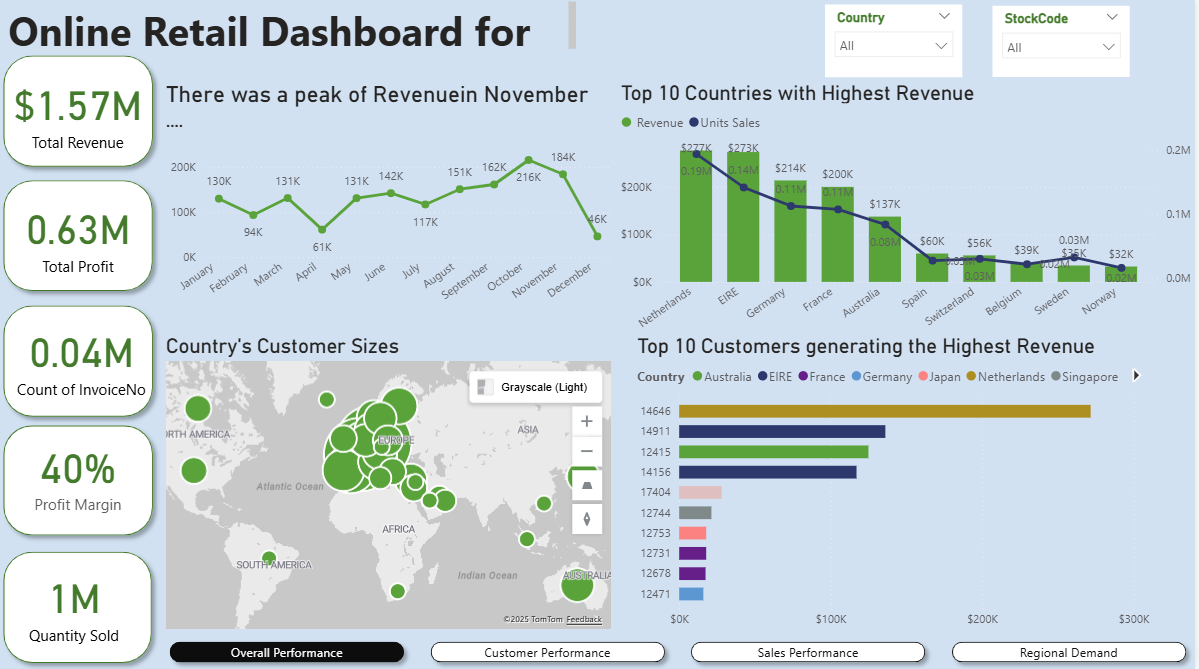

The page's visual inventory and layout, read from the dashboard file:
{"tool":"powerbi","page":{"name":"Overall Performance","canvas":[1280,720],"ordinal":0},"visuals":[{"type":"pageNavigator","box":[177.5,678.9,1102.8,40.8],"z":0},{"type":"lineStackedColumnComboChart","title":"Top 10 Countries with Highest Revenue (not Including UK)","fields":{"Category":["dim_invoice.Country"],"Y2":["Sum(fact_sales.Quantity)"],"Y":["Sum(fact_sales.Revenue)"]},"box":[652.1,385.9,618.3,281.7],"z":1000},{"type":"barChart","title":"Top 10 Customers generating the Highest Revenue","fields":{"Y":["Divide(Sum(fact_sales.Revenue), ScopedEval(Sum(fact_sales.Revenue), []))"],"Category":["dim_invoice.CustomerID"],"Series":["dim_invoice.Country"]},"box":[205.8,358.1,429.5,321.1],"z":2000},{"type":"slicer","fields":{"Values":["dim_products.StockCode"]},"box":[1129.3,171.5,135.8,76.8],"z":3000},{"type":"donutChart","title":"Revenue by  Country","fields":{"Y":["Sum(fact_sales.Revenue)"],"Category":["dim_invoice.Country"]},"box":[635.2,73.2,450.7,142.3],"z":4000},{"type":"lineChart","title":"Monthly Revenue Trend","fields":{"Category":["dim_date.Date.Variation.Date Hierarchy.Month"],"Y":["fact_sales.Total Revenue (UK)","fact_sales.Total Revenue(other countries)","fact_sales.Total Revenue(all)"]},"box":[205.6,73.2,402.8,285.9],"z":5000},{"type":"donutChart","fields":{"Y":["fact_sales.Customer Count"],"Category":["dim_invoice.Country"]},"box":[635.2,226.8,449.3,143.7],"z":6000},{"type":"slicer","fields":{"Values":["dim_date.Date.Variation.Date Hierarchy.Year","dim_date.Date.Variation.Date Hierarchy.Quarter","dim_date.Date.Variation.Date Hierarchy.Month","dim_date.Date.Variation.Date Hierarchy.Day"]},"box":[1129.3,281.3,135.8,76.8],"z":7000},{"type":"slicer","fields":{"Values":["dim_invoice.Country"]},"box":[1129.3,74.1,138.6,70],"z":8000},{"type":"shape","box":[0,53.5,177.5,136.6],"z":9000},{"type":"shape","box":[0,186.8,177.2,136],"z":10000},{"type":"shape","box":[0,319.7,177.5,136.6],"z":11000},{"type":"shape","box":[0,447.9,177.5,135.2],"z":12000},{"type":"card","fields":{"Values":["fact_sales.Total Profit"]},"box":[0,201.4,177.5,107],"z":13000},{"type":"card","fields":{"Values":["Sum(fact_sales.Revenue)"]},"box":[5.6,73.2,166.2,98.6],"z":14000},{"type":"shape","box":[0,583.1,176.1,136.6],"z":15000},{"type":"card","fields":{"Values":["fact_sales.Profit Margin"]},"box":[0,450.7,177.5,116.9],"z":16000},{"type":"card","fields":{"Values":["Sum(fact_sales.Quantity)"]},"box":[0,588.7,169,118.3],"z":17000},{"type":"card","fields":{"Values":["CountNonNull(fact_sales.InvoiceNo)"]},"box":[9.9,333.8,166.2,104.2],"z":18000},{"type":"textbox","box":[9.9,0,615.5,63.4],"z":19000}]}

Visuals, with their boxes in screenshot pixels (x1, y1, x2, y2), scaled from the page's 1280x720 canvas onto the 1199x669 screenshot:
pageNavigator: 166 631 1198 668
"Top 10 Countries with Highest Revenue (not Including UK)" lineStackedColumnComboChart: 611 359 1190 620
"Top 10 Customers generating the Highest Revenue" barChart: 193 333 595 631
slicer - dim_products.StockCode: 1058 159 1185 231
"Revenue by  Country" donutChart: 595 68 1017 200
"Monthly Revenue Trend" lineChart: 193 68 570 334
donutChart - fact_sales.Customer Count x dim_invoice.Country: 595 211 1016 344
slicer - dim_date.Date.Variation.Date Hierarchy.Year x dim_date.Date.Variation.Date Hierarchy.Quarter: 1058 261 1185 333
slicer - dim_invoice.Country: 1058 69 1188 134
shape: 0 50 166 177
shape: 0 174 166 300
shape: 0 297 166 424
shape: 0 416 166 542
card - fact_sales.Total Profit: 0 187 166 287
card - Sum(fact_sales.Revenue): 5 68 161 160
shape: 0 542 165 668
card - fact_sales.Profit Margin: 0 419 166 527
card - Sum(fact_sales.Quantity): 0 547 158 657
card - CountNonNull(fact_sales.InvoiceNo): 9 310 165 407
textbox: 9 0 586 59
